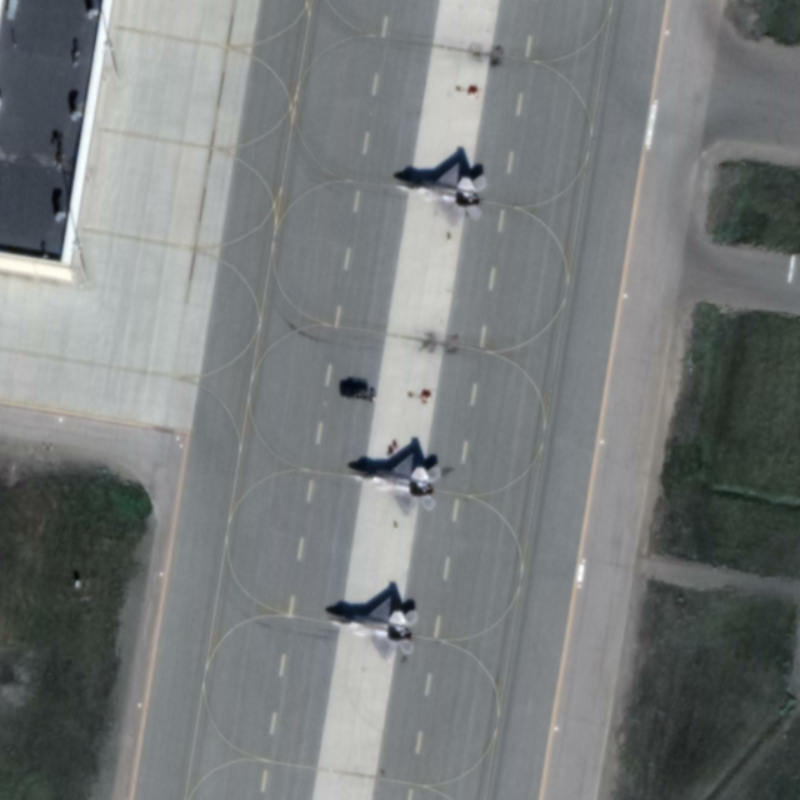A15: (382, 147, 494, 234), (316, 584, 427, 668), (340, 441, 446, 523)
